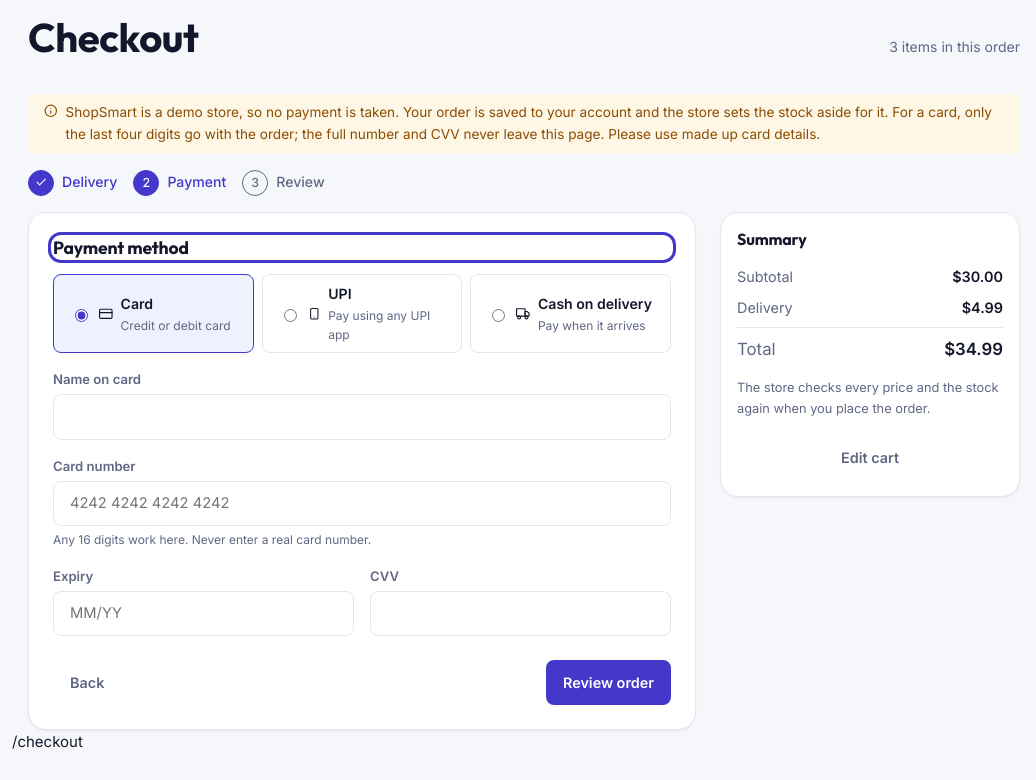
Checkout › marks the lines that are out of stock and lets the shopper fix them
This screenshot has width=1036, height=780.
Earlier steps of the test are not shown.
In the field labelled "Name on card": x=362, y=417 [53,394,671,440], type "Demo Shopper"
In the field labelled "Card number": x=362, y=504 [53,481,671,526], type "4111 1111 1111 4242"
In the field labelled "Expiry": x=204, y=613 [53,591,354,636], type "1229"
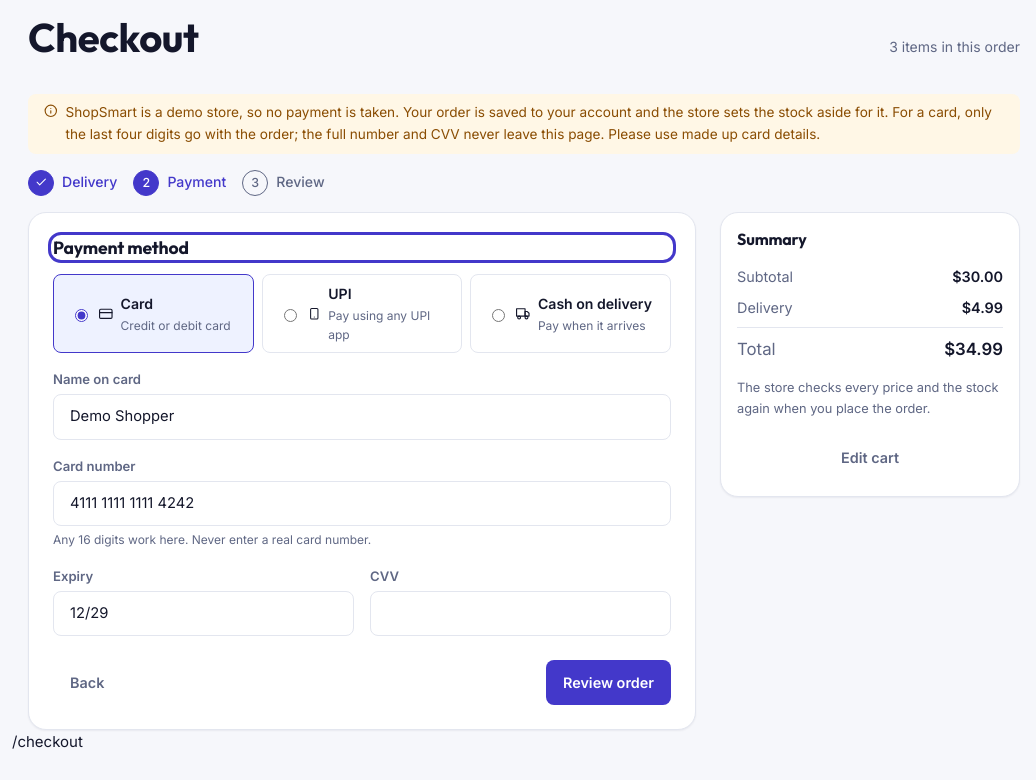
In the field labelled "CVV": x=520, y=613 [370,591,671,636], type "123"
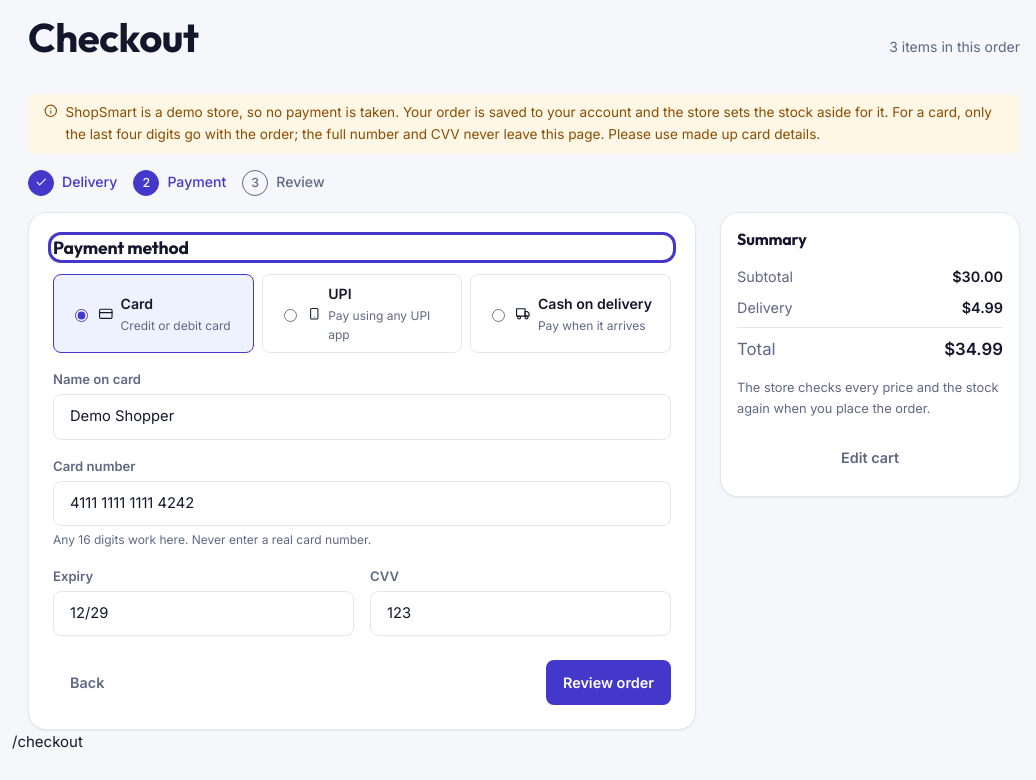
Click the button "Review order": x=608, y=683 [546,660,671,705]
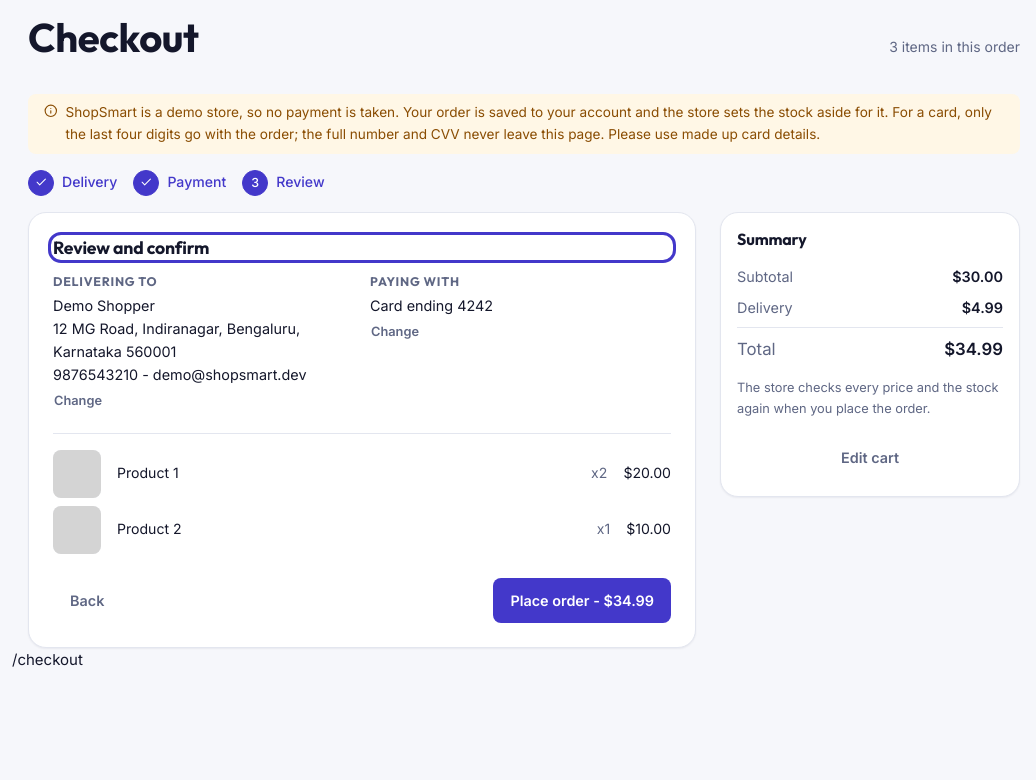
Click the button "Place order - $34.99": x=582, y=600 [493,578,671,623]
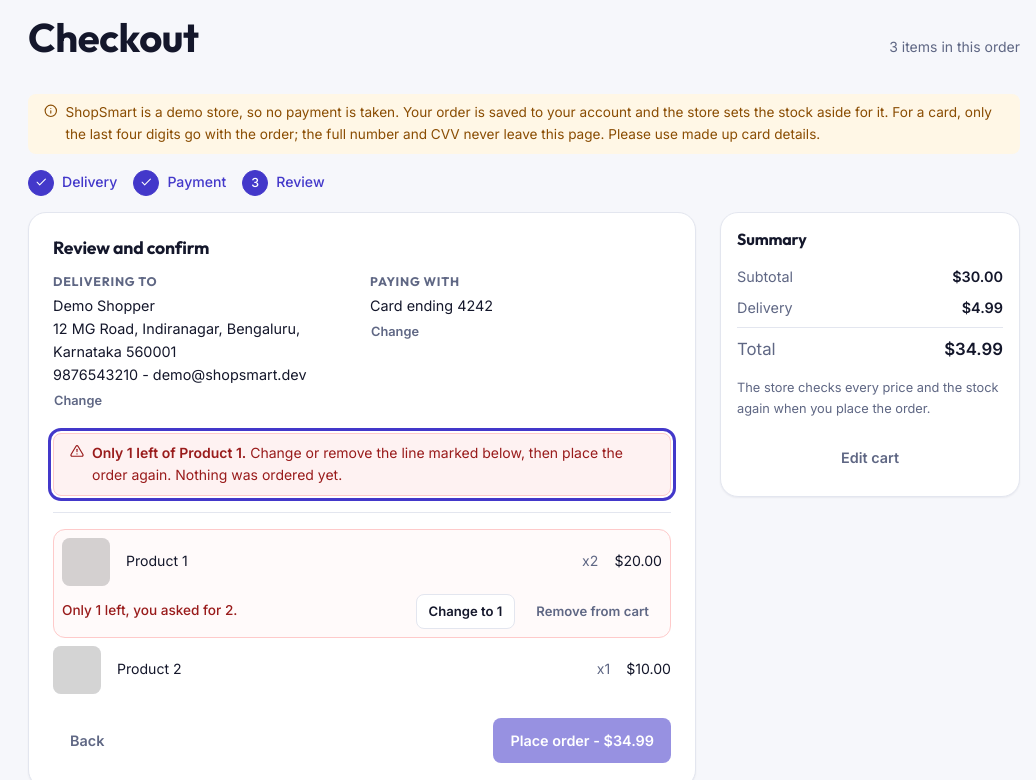
Result: the message shows "Only 1 left of Product 1." at [92,444,246,461]
Result: the button "Place order - $34.99" is disabled at [493,718,671,762]
Click the button named "Change to 1 for Product 1": x=465, y=611 [416,594,515,628]
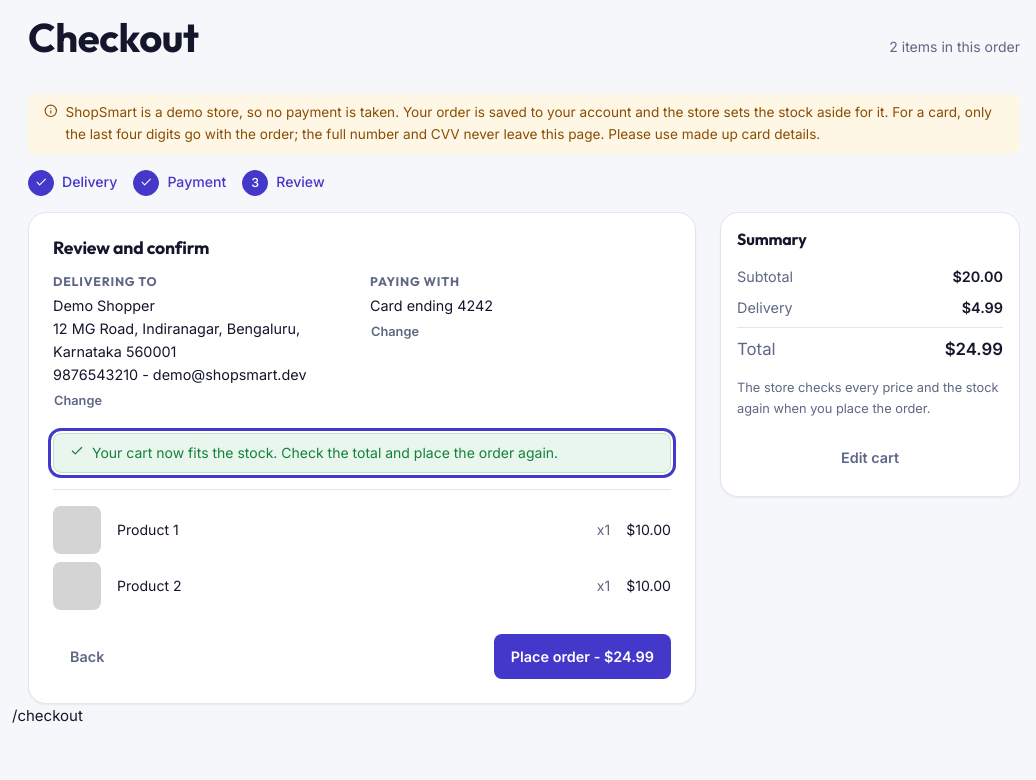
Result: the button "Place order - $24.99" is enabled
Click the button "Place order - $24.99": x=582, y=657 [494,634,671,679]
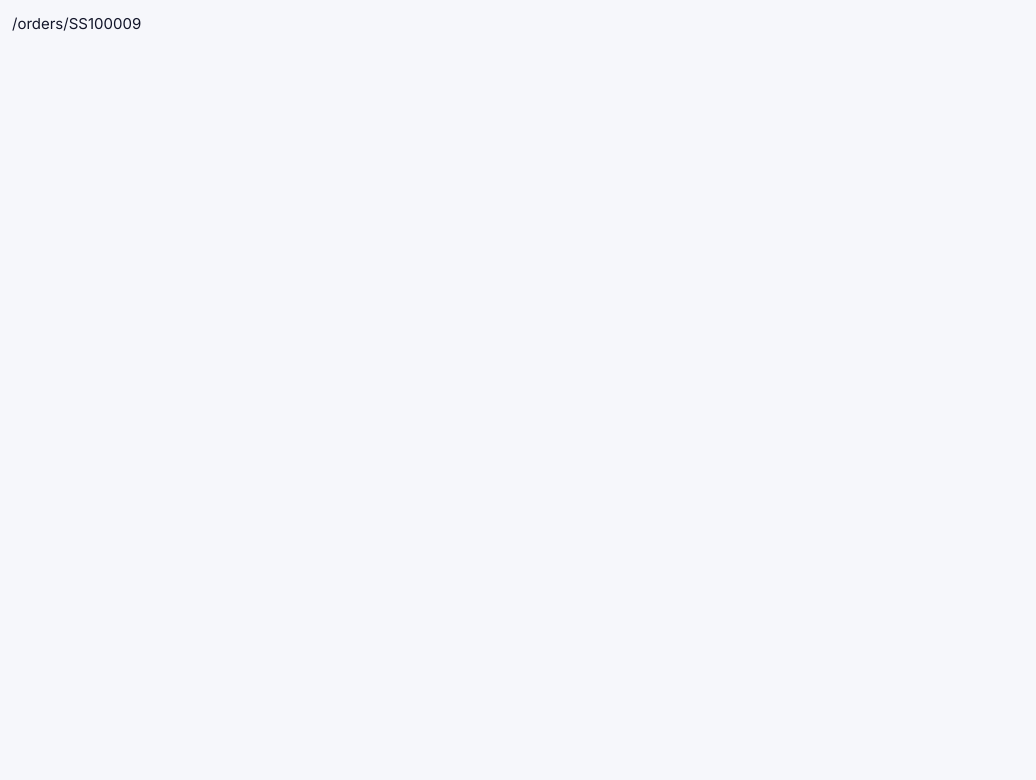
Result: the text with test id "location" reads "/orders/SS100009" at [12,14,141,33]
